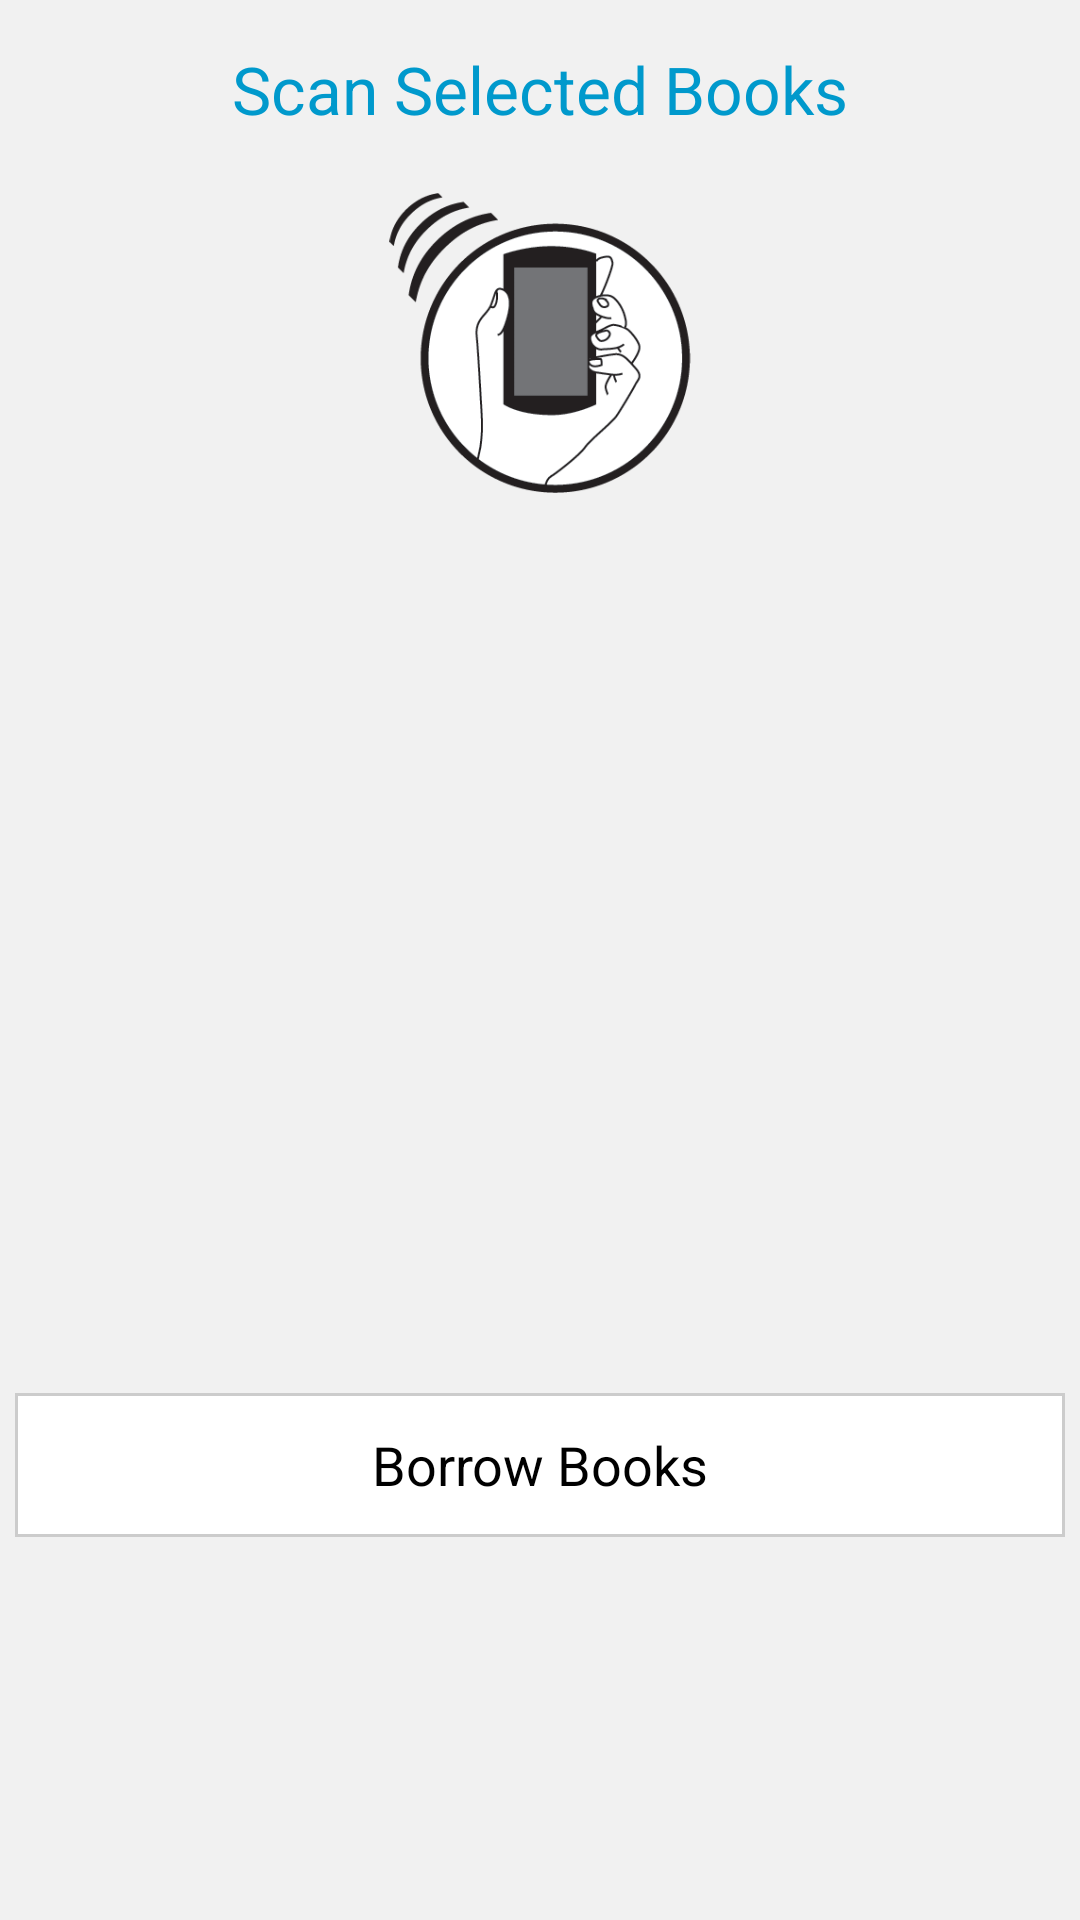

Screen size 1080 x 1920. Icon name, then its box in pixels as box(x1, y1, x2, y2):
nfcscan: box(389, 193, 691, 493)
